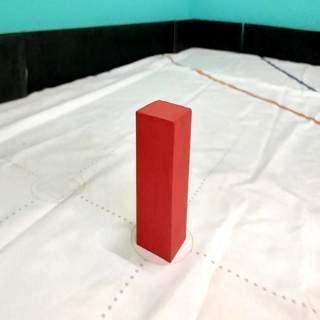redbox: (135, 99, 193, 262)
